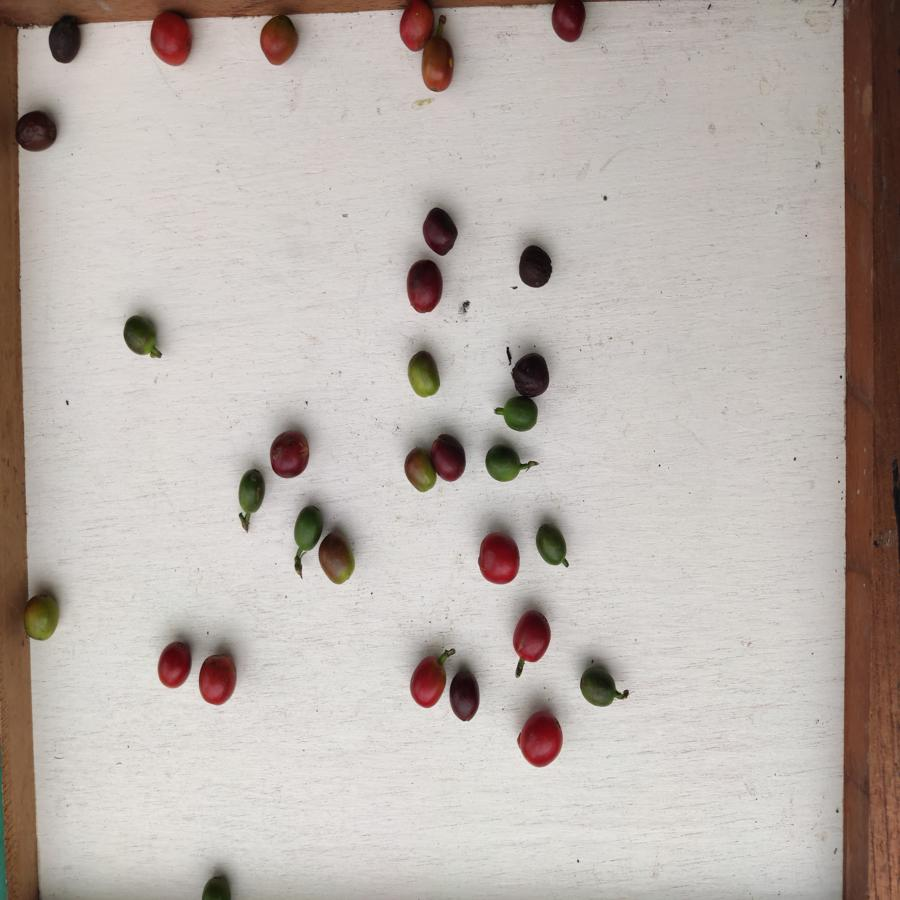Inmaduro: (120, 312, 163, 360), (577, 669, 621, 708), (535, 521, 570, 567), (235, 469, 269, 514), (485, 443, 522, 484), (500, 396, 541, 432), (292, 503, 322, 551)
Maduro: (144, 12, 198, 70), (515, 710, 566, 766), (476, 532, 522, 585), (510, 608, 553, 663), (256, 14, 299, 64), (409, 656, 448, 708), (198, 652, 236, 704), (155, 640, 192, 689), (399, 3, 434, 50)
Pinton: (319, 531, 357, 585), (24, 591, 63, 642), (402, 350, 443, 398), (419, 37, 454, 93), (402, 447, 433, 492)
Sobremaduro: (419, 204, 464, 258), (403, 259, 447, 314), (267, 430, 311, 481), (514, 243, 558, 290), (447, 671, 486, 723), (46, 12, 84, 63), (15, 111, 59, 150), (551, 1, 590, 44), (432, 434, 467, 481)
